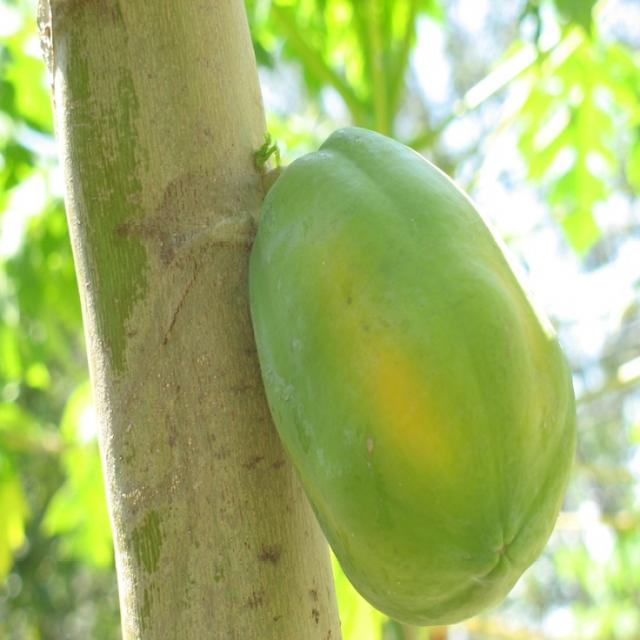Pepaya rippen: (246, 113, 584, 633)
